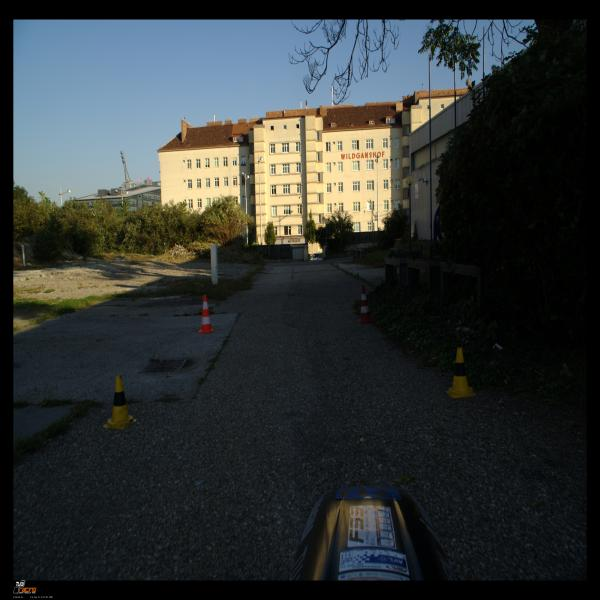large_orange_cone: (198, 294, 215, 334), (358, 285, 374, 324)
yellow_cone: (103, 375, 137, 430), (446, 347, 476, 398)
